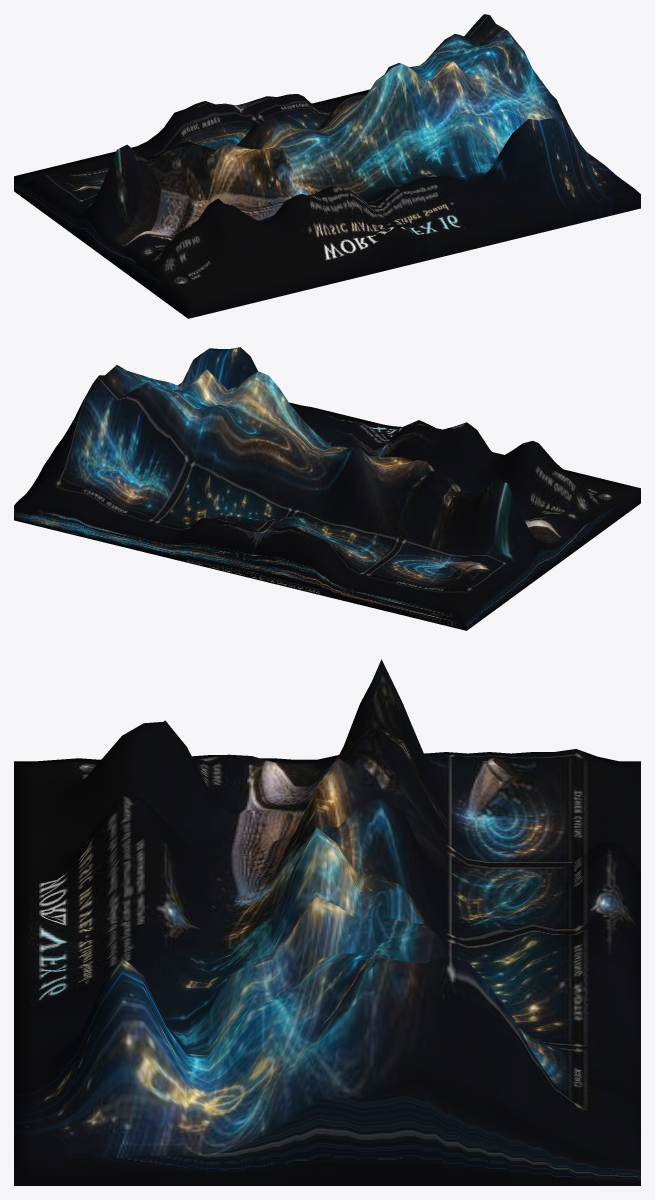
The model's file is WORLD_VFX_16_Music_Waves.glb.
The picture shows the model from 3 angles, top to bottom: view 1: azimuth 30°, elevation 25°; view 2: azimuth 150°, elevation 25°; view 3: azimuth 270°, elevation 25°; orthographic projection. The views are drawn at different scales.
Parts seen in each view (by area): view 1: WORLD_VFX_16_Music_Waves; view 2: WORLD_VFX_16_Music_Waves; view 3: WORLD_VFX_16_Music_Waves.
Part boxes in pixels (x1,y1,x2,y2): WORLD_VFX_16_Music_Waves: [14, 14, 640, 318]; WORLD_VFX_16_Music_Waves: [14, 347, 640, 630]; WORLD_VFX_16_Music_Waves: [14, 659, 640, 1185].
Bounding box in the file's own units: 2 × 0.51 × 1.33.
1 material, 1 textured.
